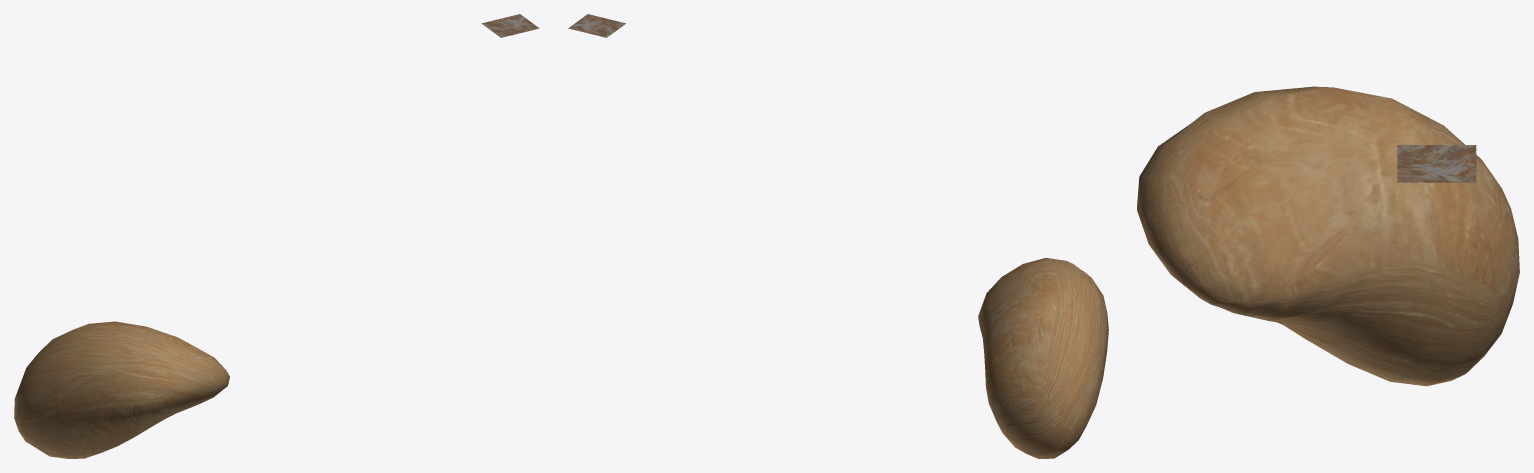
The model's file is rock_1.obj.
3 views of the same model, side by side, from view 1: azimuth 30°, elevation 25°; view 2: azimuth 150°, elevation 25°; view 3: azimuth 270°, elevation 25° (orthographic). The views are drawn at different scales.
Visible parts, largest first — view 1: rock6, light_source_pillar1; view 2: rock6, light_source_pillar1; view 3: rock6, light_source_pillar1.
Part boxes in pixels (x1,y1,x2,y2): rock6: (14,321,229,458); light_source_pillar1: (481,14,539,37); rock6: (978,258,1108,458); light_source_pillar1: (568,14,625,37); rock6: (1137,86,1519,386); light_source_pillar1: (1397,145,1476,182).
Bounding box in the file's own units: 19.88 × 11.98 × 6.48.
2 materials, 2 textured.
